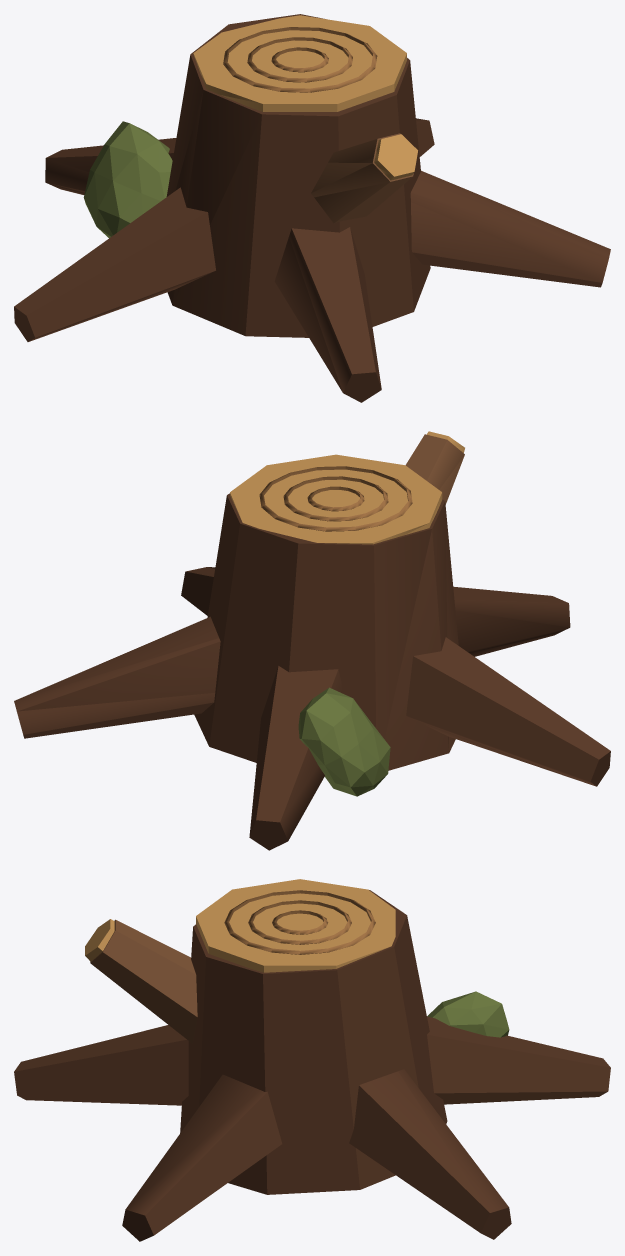
The model's file is 04_stump.fbx.
3 views of the same model, one above another, from view 1: azimuth 30°, elevation 25°; view 2: azimuth 150°, elevation 25°; view 3: azimuth 270°, elevation 25° (orthographic). The views are drawn at different scales.
Visible parts, largest first — view 1: 04_stump; view 2: 04_stump; view 3: 04_stump.
Boxes of the visible parts, x1,y1,x2,y2 form: 04_stump: [14, 14, 610, 402]; 04_stump: [14, 431, 610, 850]; 04_stump: [14, 879, 610, 1241].
Size of the model in its own units: 1.68 by 0.7301 by 1.76.
Materials: 1 (1 with a texture image).
